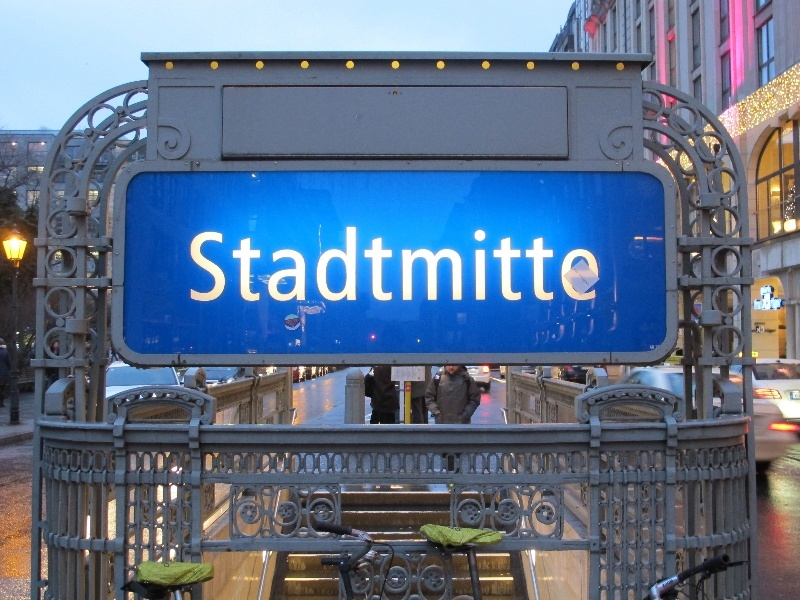text: (193, 225, 208, 302), (209, 225, 224, 302), (225, 225, 240, 302), (241, 225, 256, 302), (257, 225, 272, 302), (273, 225, 288, 302), (289, 225, 304, 302), (305, 225, 320, 302), (321, 225, 336, 302), (337, 225, 352, 302), (353, 225, 368, 302), (369, 225, 384, 302), (385, 225, 400, 302), (401, 225, 416, 302), (417, 225, 432, 302), (433, 225, 448, 302), (449, 225, 464, 302), (465, 225, 480, 302), (481, 225, 496, 302), (497, 225, 512, 302), (513, 225, 528, 302), (529, 225, 544, 302), (545, 225, 555, 302), (770, 297, 784, 313), (577, 269, 590, 286), (753, 299, 768, 310), (190, 225, 192, 302), (694, 319, 704, 325), (407, 387, 416, 390), (795, 393, 800, 398), (650, 345, 656, 349), (657, 345, 660, 349), (753, 353, 756, 356), (655, 345, 656, 349)
